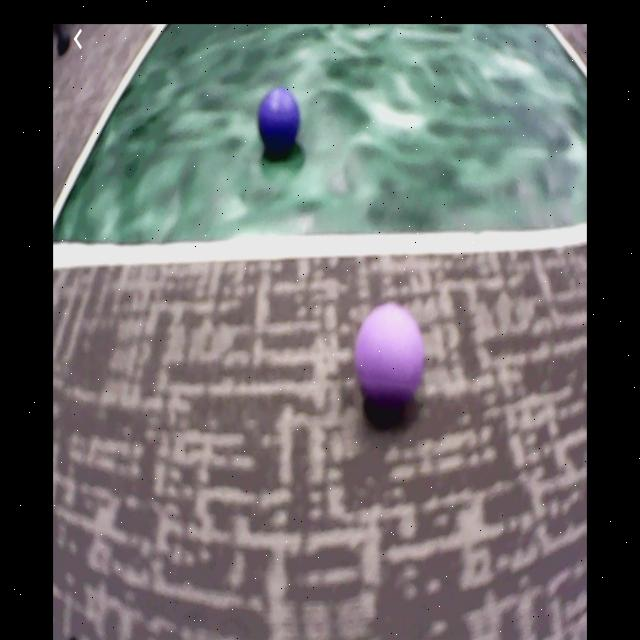ball: (357, 304, 425, 403), (259, 89, 300, 150)
